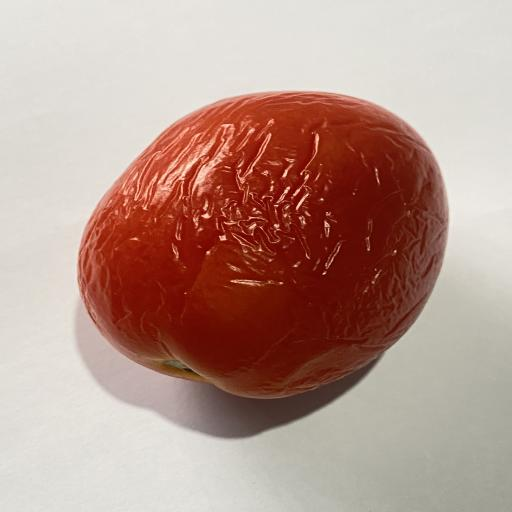spoiled: (79, 92, 447, 398)
